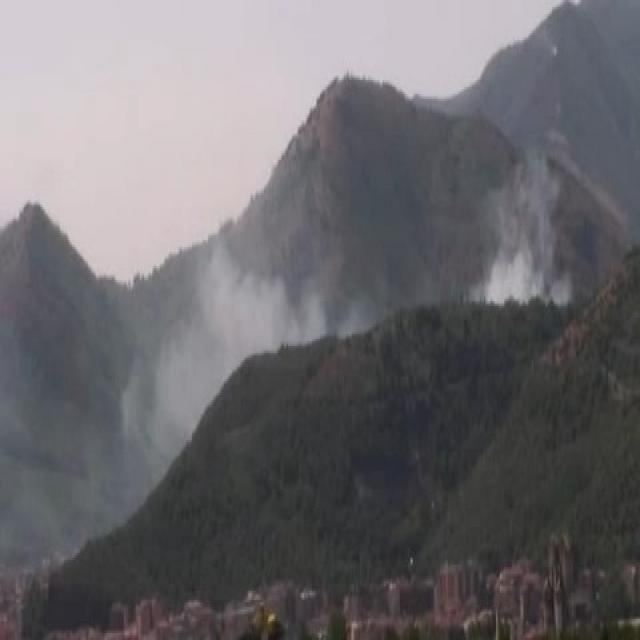smoke: (171, 225, 343, 366), (477, 168, 569, 308)
